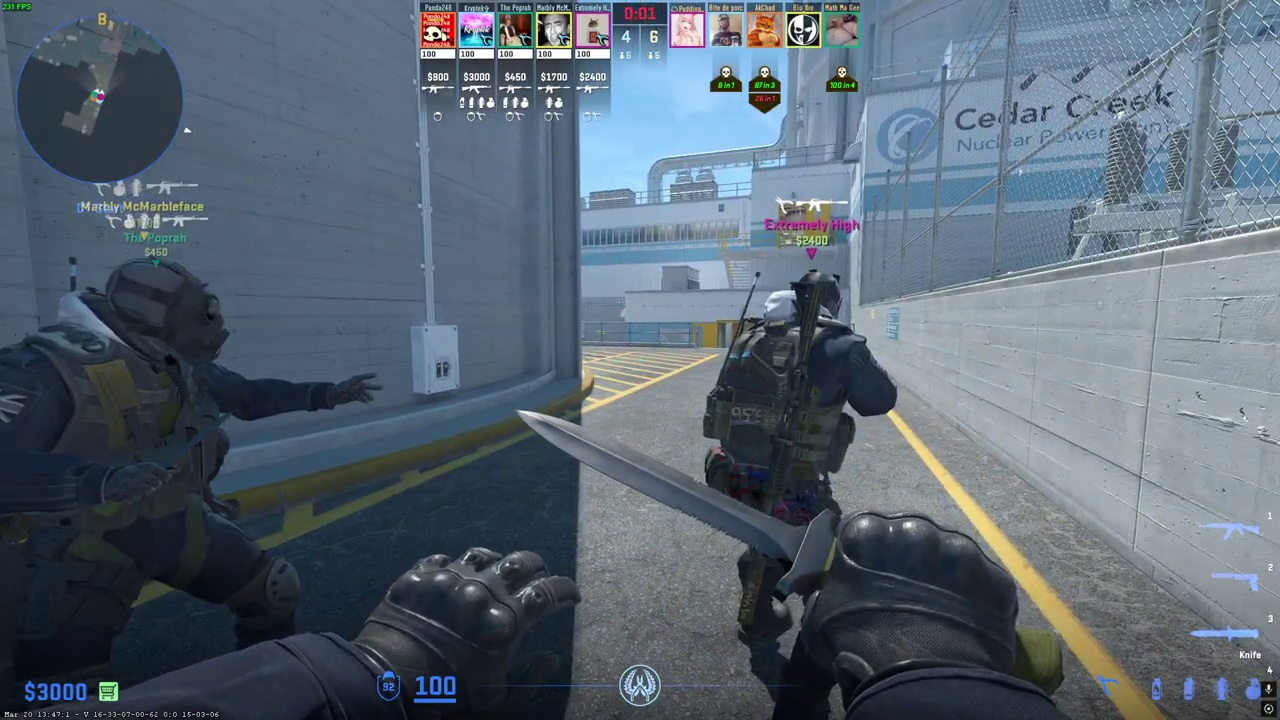CT: (1, 258, 300, 709), (708, 268, 874, 635)
